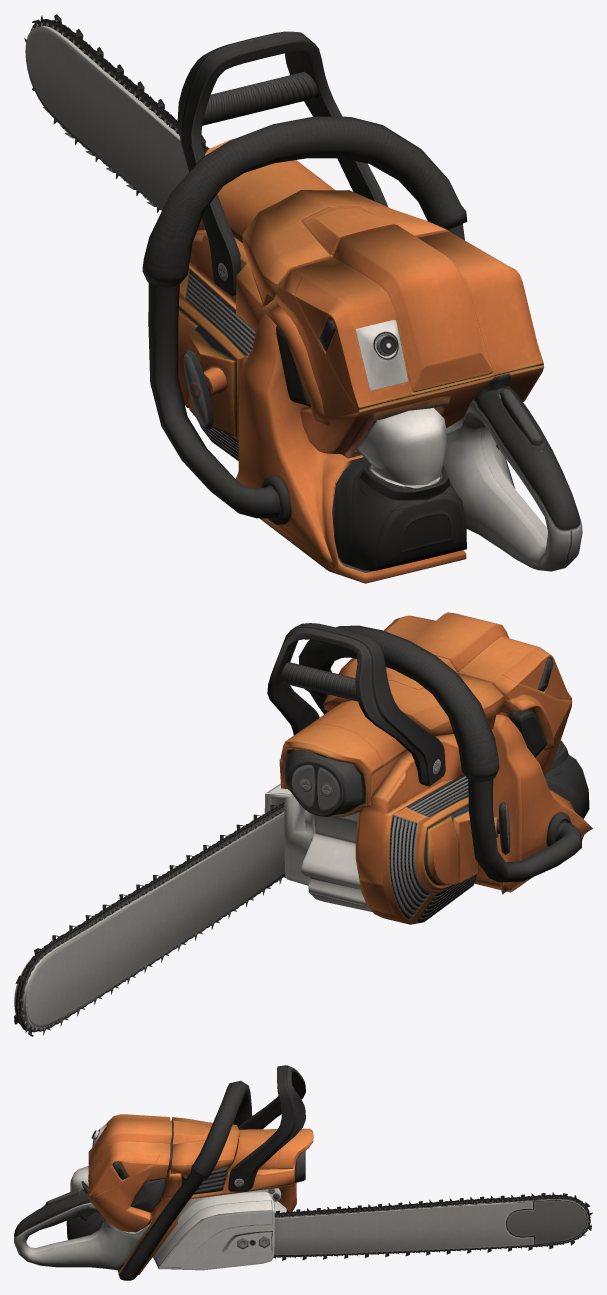
The model's file is Animated_Chainsaw.glb.
3 renders of one model, top to bottom at view 1: azimuth 30°, elevation 25°; view 2: azimuth 150°, elevation 25°; view 3: azimuth 270°, elevation 25°, orthographic. The views are drawn at different scales.
Visible parts, largest first — view 1: Saw, Chain; view 2: Saw, Chain; view 3: Saw, Chain.
Part boxes in pixels (x1=…): Saw: x1=25, y1=25, x2=582, y2=583; Chain: x1=24, y1=14, x2=209, y2=212; Saw: x1=14, y1=612, x2=592, y2=1028; Chain: x1=14, y1=802, x2=285, y2=1036; Saw: x1=14, y1=1065, x2=588, y2=1280; Chain: x1=273, y1=1192, x2=592, y2=1260.
Size of the model in its own units: 2.58 by 3.16 by 9.
1 material, 1 textured.
